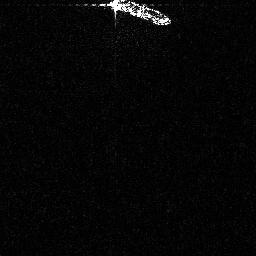ship: (83, 1, 173, 27)
